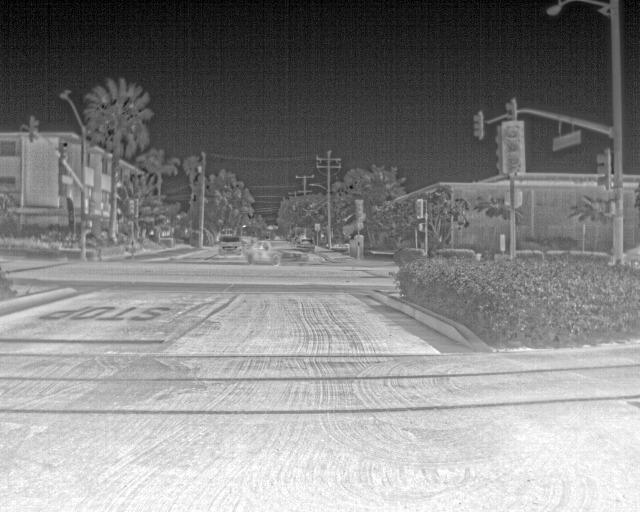car: (246, 240, 309, 267), (216, 235, 243, 257), (290, 226, 307, 245), (297, 238, 315, 254)
light: (506, 125, 521, 171), (495, 126, 504, 170), (597, 154, 608, 185), (30, 119, 39, 139), (473, 115, 481, 137), (62, 142, 69, 160), (356, 202, 363, 218), (416, 201, 421, 216), (418, 224, 422, 230)
sign: (552, 129, 581, 152), (504, 189, 522, 207), (83, 167, 95, 187), (62, 175, 74, 184), (500, 234, 505, 251), (315, 224, 320, 231)
